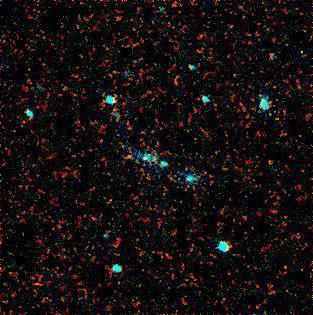star: (117, 139, 147, 169)
